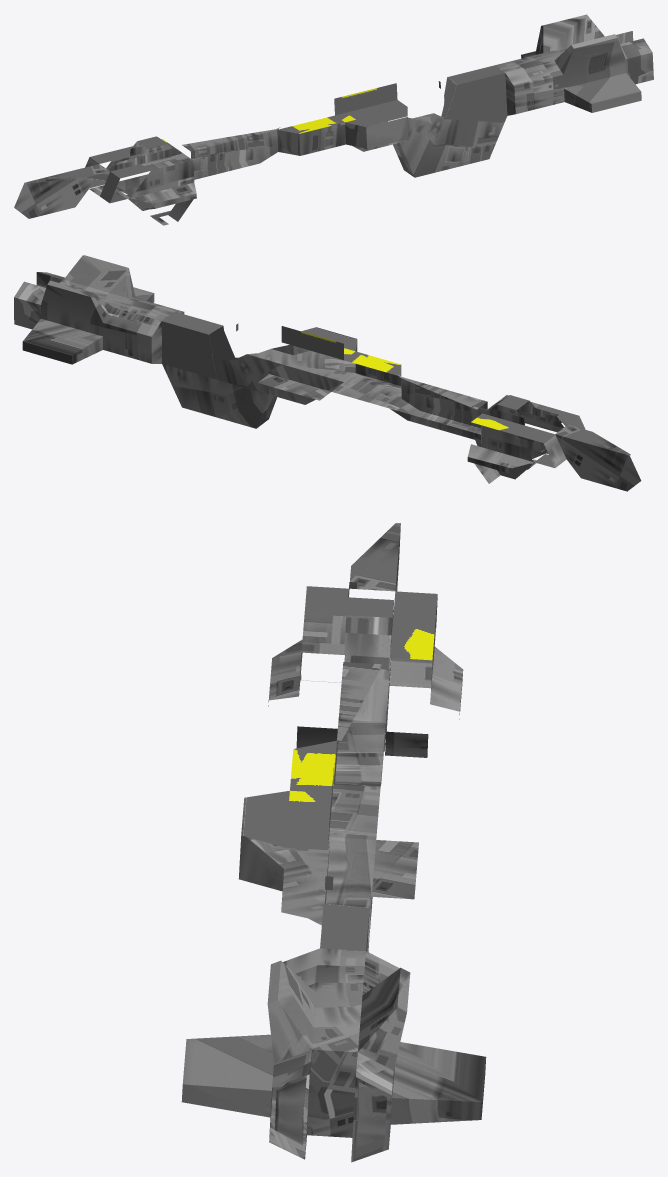
3 renders of one model, top to bottom at view 1: azimuth 30°, elevation 25°; view 2: azimuth 150°, elevation 25°; view 3: azimuth 270°, elevation 25°, orthographic. The views are drawn at different scales.
Visible parts, largest first — view 1: DestroyerR_Destroyer_Untitled.000; view 2: DestroyerR_Destroyer_Untitled.000; view 3: DestroyerR_Destroyer_Untitled.000.
Part boxes in pixels (left/top/right/bottom): DestroyerR_Destroyer_Untitled.000: left=14, top=14, right=653, bottom=225; DestroyerR_Destroyer_Untitled.000: left=14, top=255, right=641, bottom=491; DestroyerR_Destroyer_Untitled.000: left=181, top=523, right=486, bottom=1162.
Bounding box in the file's own units: 1618 × 268 × 350.
